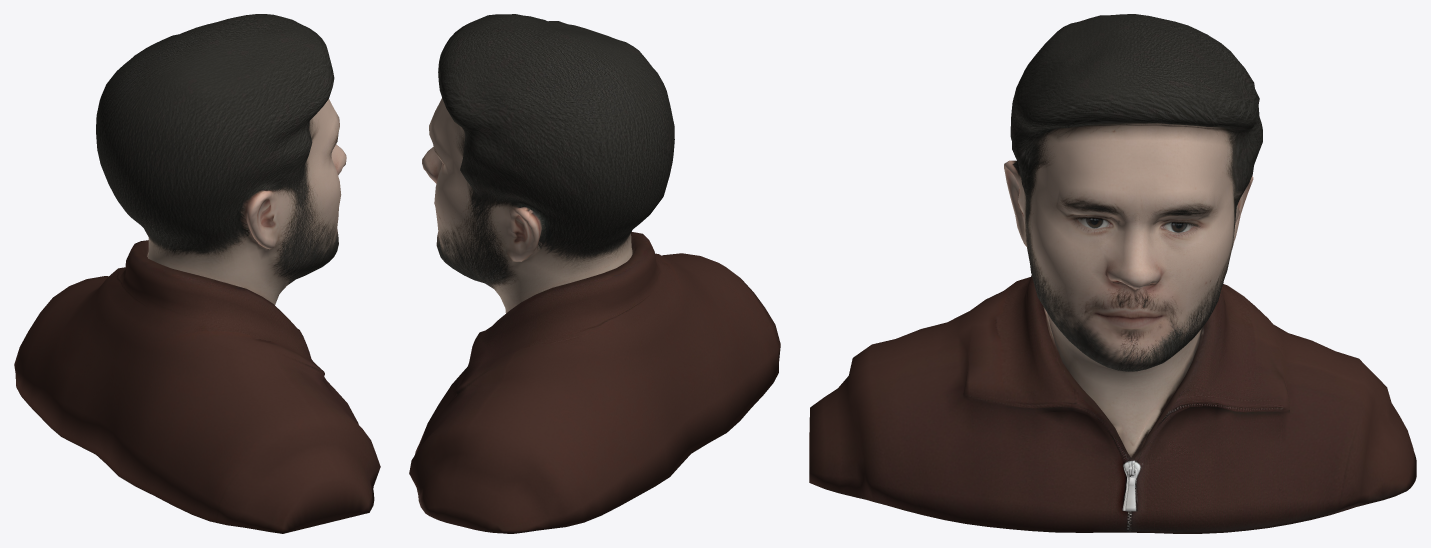
3 renders of one model, left to right at view 1: azimuth 30°, elevation 25°; view 2: azimuth 150°, elevation 25°; view 3: azimuth 270°, elevation 25°, orthographic. The views are drawn at different scales.
Parts seen in each view (by area): view 1: tripo_node_d9d4078a-ef07-4a17-bcd4-a54d39d980f7; view 2: tripo_node_d9d4078a-ef07-4a17-bcd4-a54d39d980f7; view 3: tripo_node_d9d4078a-ef07-4a17-bcd4-a54d39d980f7.
Part boxes in pixels (x1,y1,x2,y2): tripo_node_d9d4078a-ef07-4a17-bcd4-a54d39d980f7: (14,14,380,533); tripo_node_d9d4078a-ef07-4a17-bcd4-a54d39d980f7: (409,14,780,533); tripo_node_d9d4078a-ef07-4a17-bcd4-a54d39d980f7: (809,14,1416,533).
Bounding box in the file's own units: 0.5872 × 0.8265 × 0.9981.
1 material, 1 textured.
